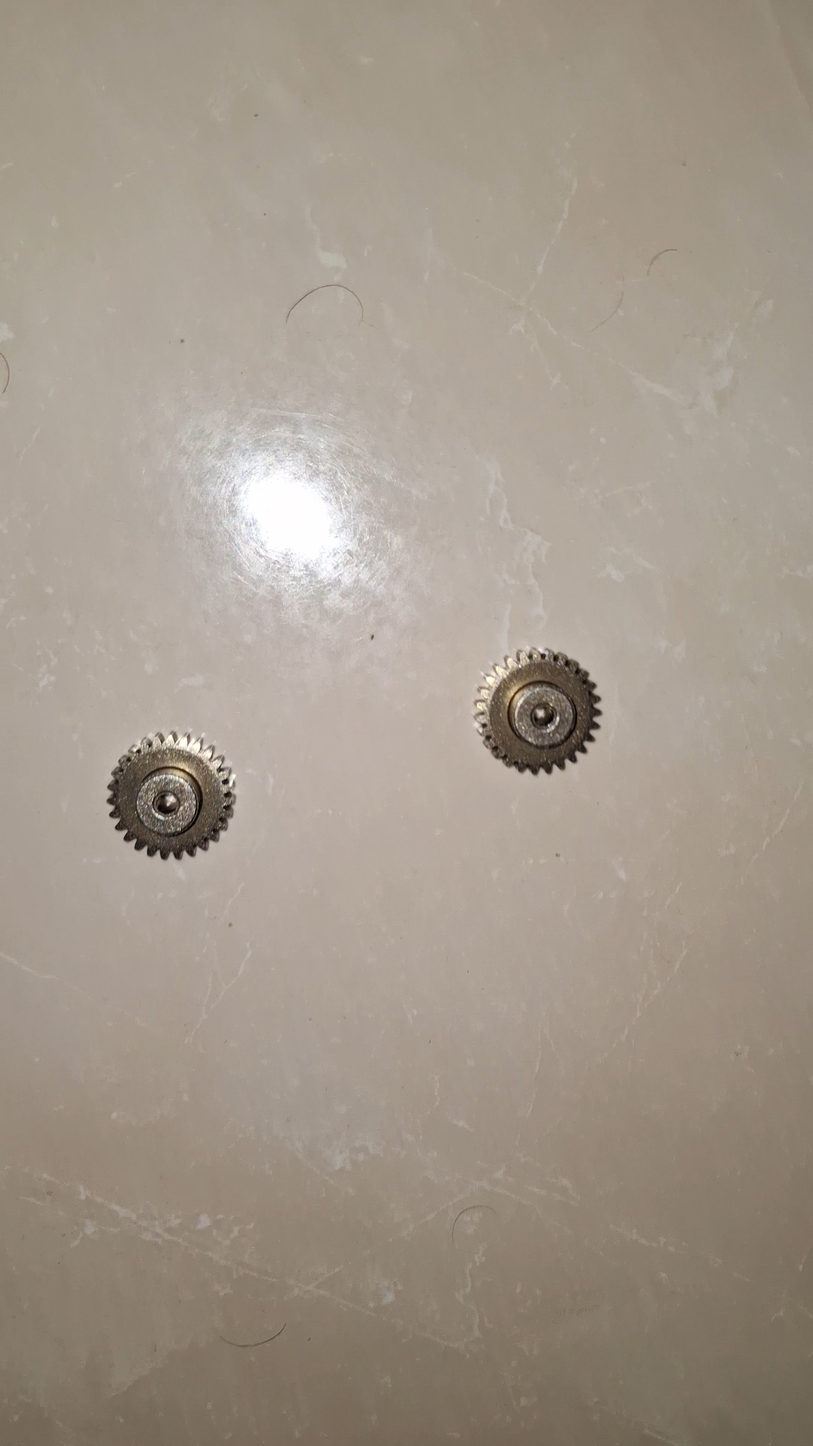spur gear: (104, 723, 230, 849), (470, 639, 593, 763)
